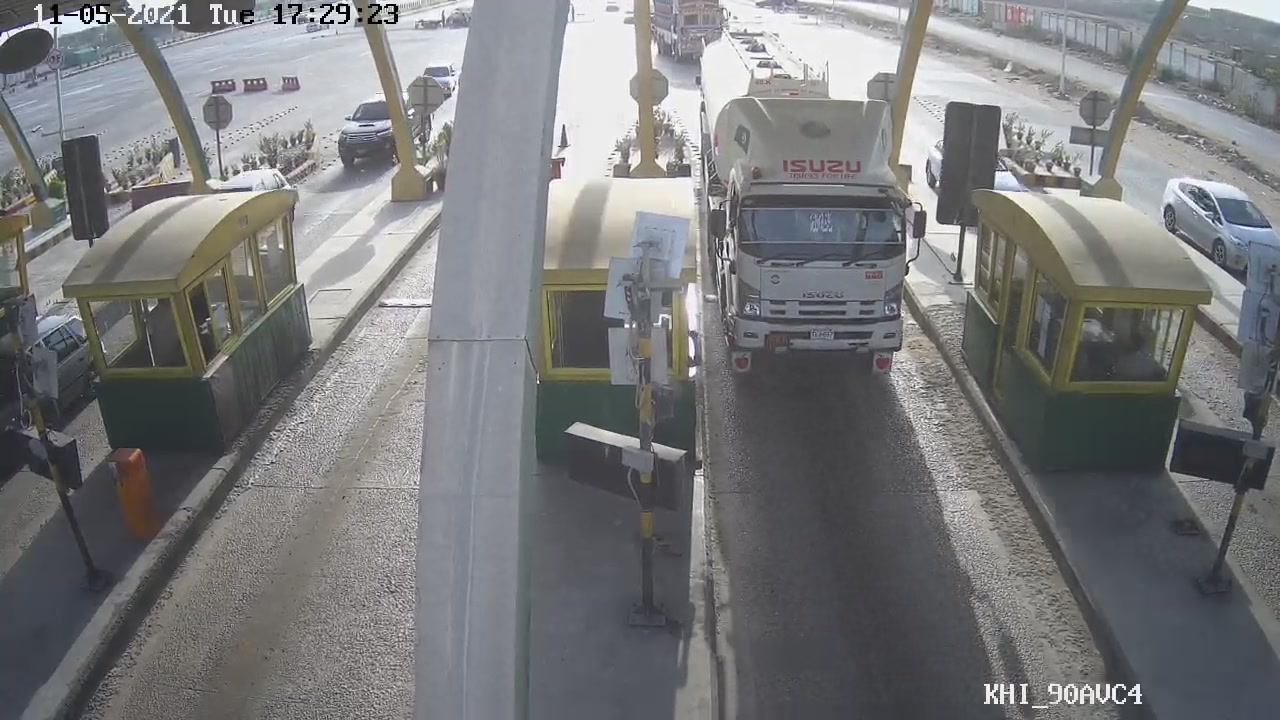F6: (692, 19, 913, 380)
